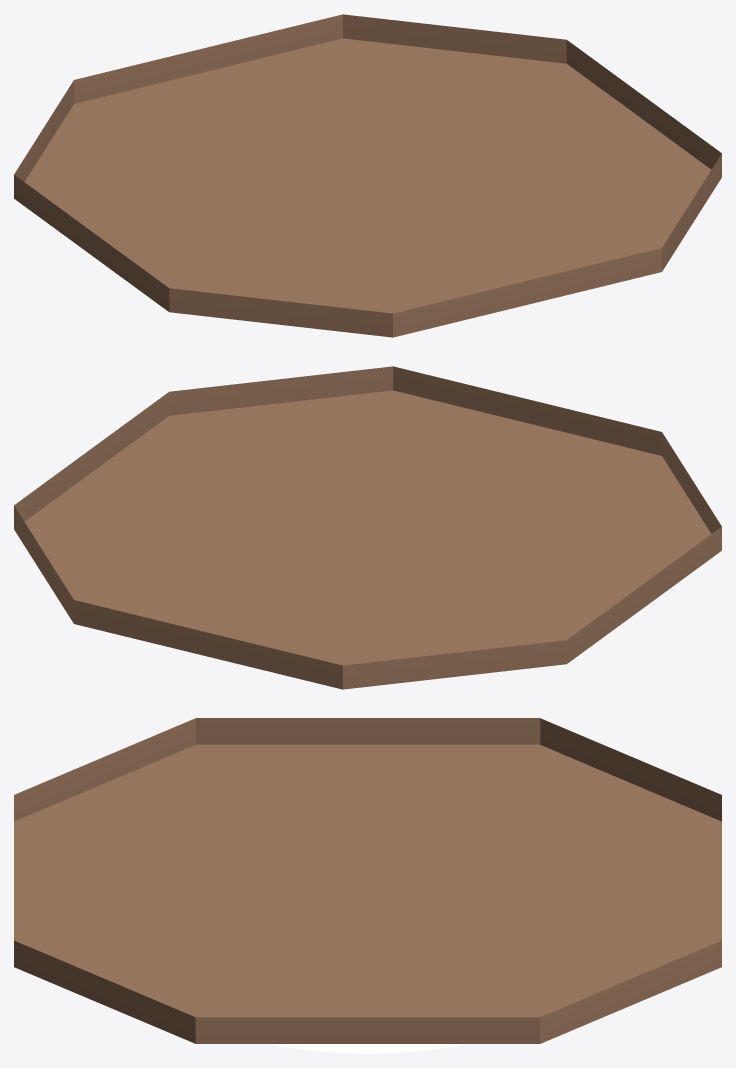
The model's file is CeilingLamp.gltf.
3 views of the same model, one above another, from view 1: azimuth 30°, elevation 25°; view 2: azimuth 150°, elevation 25°; view 3: azimuth 270°, elevation 25° (orthographic). The views are drawn at different scales.
Visible parts, largest first — view 1: CeilingLamp; view 2: CeilingLamp; view 3: CeilingLamp.
Part boxes in pixels (left/top/right/bottom): CeilingLamp: left=14, top=14, right=721, bottom=337; CeilingLamp: left=14, top=366, right=721, bottom=689; CeilingLamp: left=14, top=718, right=721, bottom=1053.
Size of the model in its own units: 0.7983 by 0.1255 by 0.7983.
2 materials, 1 textured.
